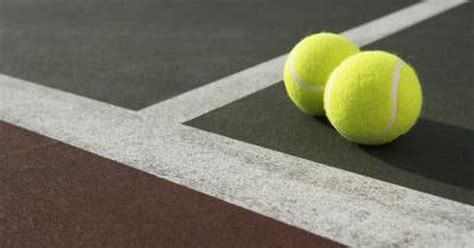tennis_ball: (323, 50, 424, 144), (284, 31, 361, 116)
